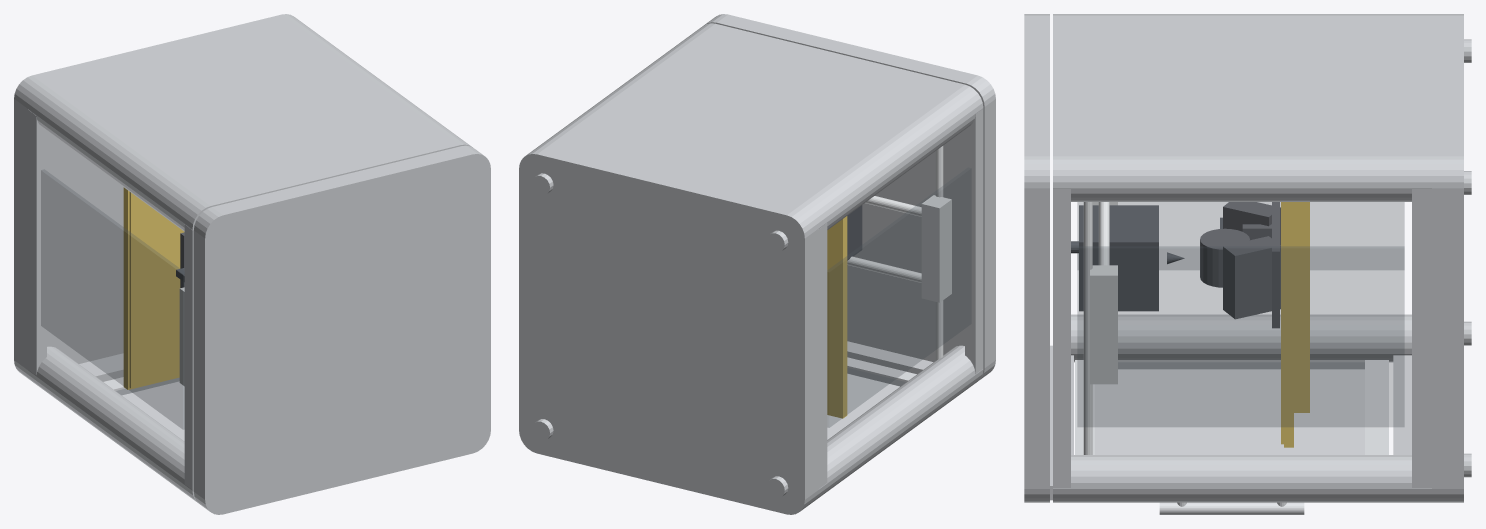
The model's file is deltrol_p2s_optimized.glb.
3 views of the same model, side by side, from view 1: azimuth 30°, elevation 25°; view 2: azimuth 150°, elevation 25°; view 3: azimuth 270°, elevation 25° (orthographic). The views are drawn at different scales.
Visible parts, largest first — view 1: enclosure, left_glass_window, printBed, front_glass_door, gantryX; view 2: enclosure, left_glass_window, gantryX, printBed, front_glass_door, door, printHead; view 3: enclosure, right_glass_window, front_glass_door, left_glass_window, printedObject, door, printBed, gantryX, printHead.
Boxes of the visible parts, x1=… form: enclosure: x1=14, y1=14, x2=490, y2=514; left_glass_window: x1=41, y1=169, x2=184, y2=429; printBed: x1=123, y1=187, x2=184, y2=389; front_glass_door: x1=116, y1=378, x2=184, y2=440; gantryX: x1=179, y1=287, x2=184, y2=386; enclosure: x1=519, y1=14, x2=995, y2=514; left_glass_window: x1=827, y1=167, x2=971, y2=427; gantryX: x1=847, y1=146, x2=951, y2=360; printBed: x1=827, y1=216, x2=847, y2=418; front_glass_door: x1=827, y1=368, x2=905, y2=439; door: x1=847, y1=357, x2=916, y2=386; printHead: x1=847, y1=205, x2=862, y2=260; enclosure: x1=1024, y1=14, x2=1471, y2=502; right_glass_window: x1=1077, y1=246, x2=1404, y2=426; front_glass_door: x1=1095, y1=363, x2=1364, y2=454; left_glass_window: x1=1077, y1=202, x2=1404, y2=269; printedObject: x1=1200, y1=202, x2=1280, y2=328; door: x1=1075, y1=360, x2=1388, y2=514; printBed: x1=1281, y1=202, x2=1309, y2=447; gantryX: x1=1083, y1=202, x2=1117, y2=454; printHead: x1=1071, y1=205, x2=1184, y2=311.
Size of the model in its own units: 0.38 by 0.4005 by 0.448.
